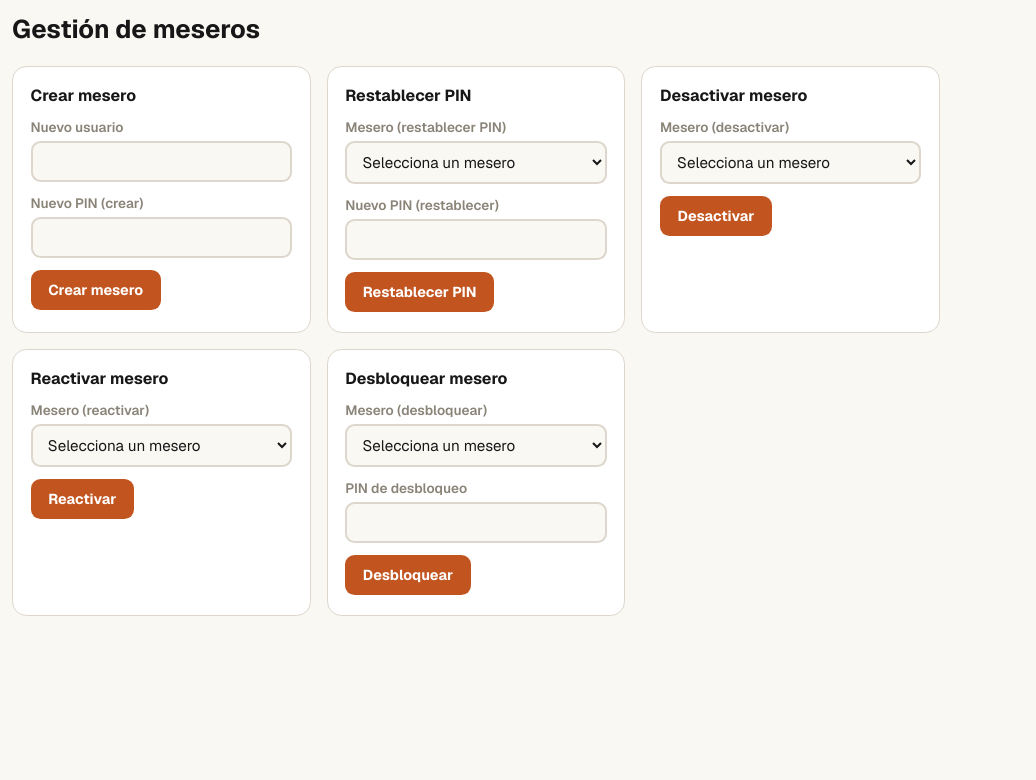
it: MeseroManagement (T53, RF-2/3/4/5/7) › creates a mesero and shows the confirmation
Step 1. Type "nuevo" into the field labelled "Nuevo usuario" → (161,162), box [31, 141, 292, 182]
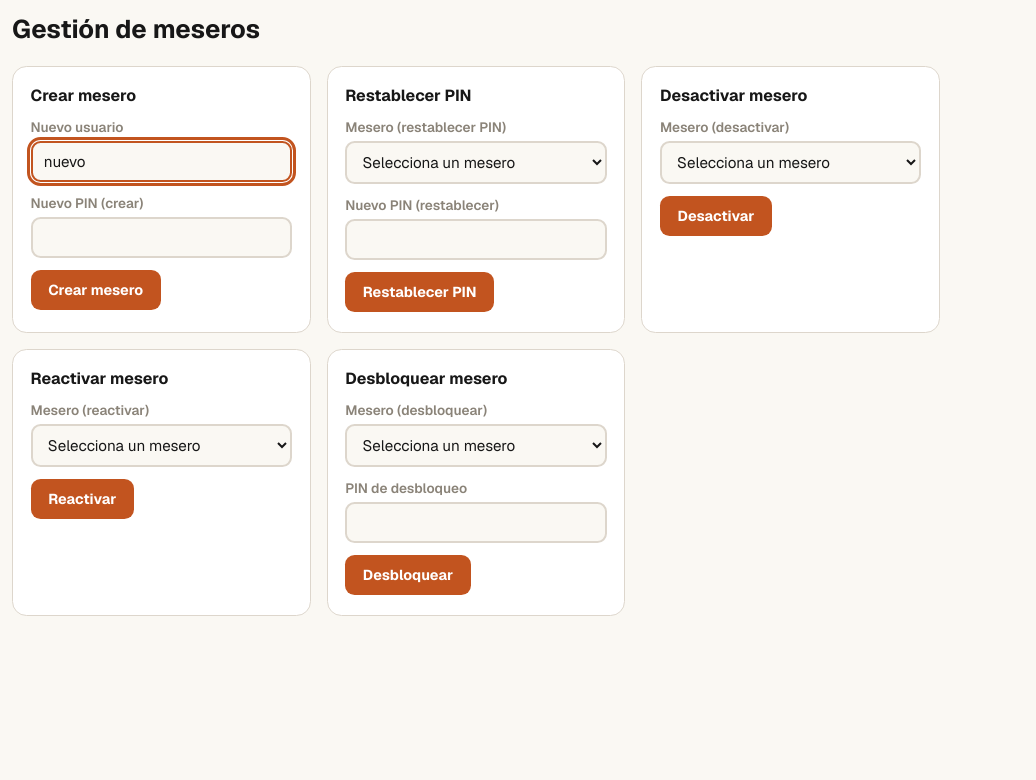
Step 2. Type "1234" into the field labelled "Nuevo PIN (crear)" → (161,238), box [31, 217, 292, 258]
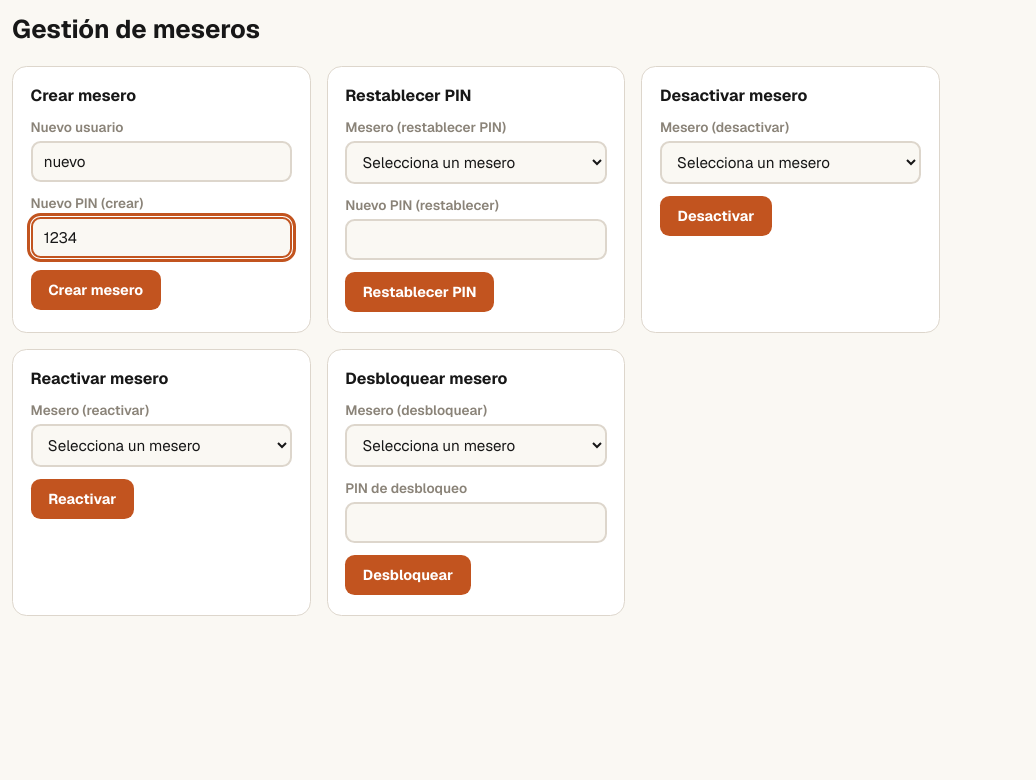
Step 3. Click the button "Crear mesero" → (96,290), box [31, 270, 161, 310]
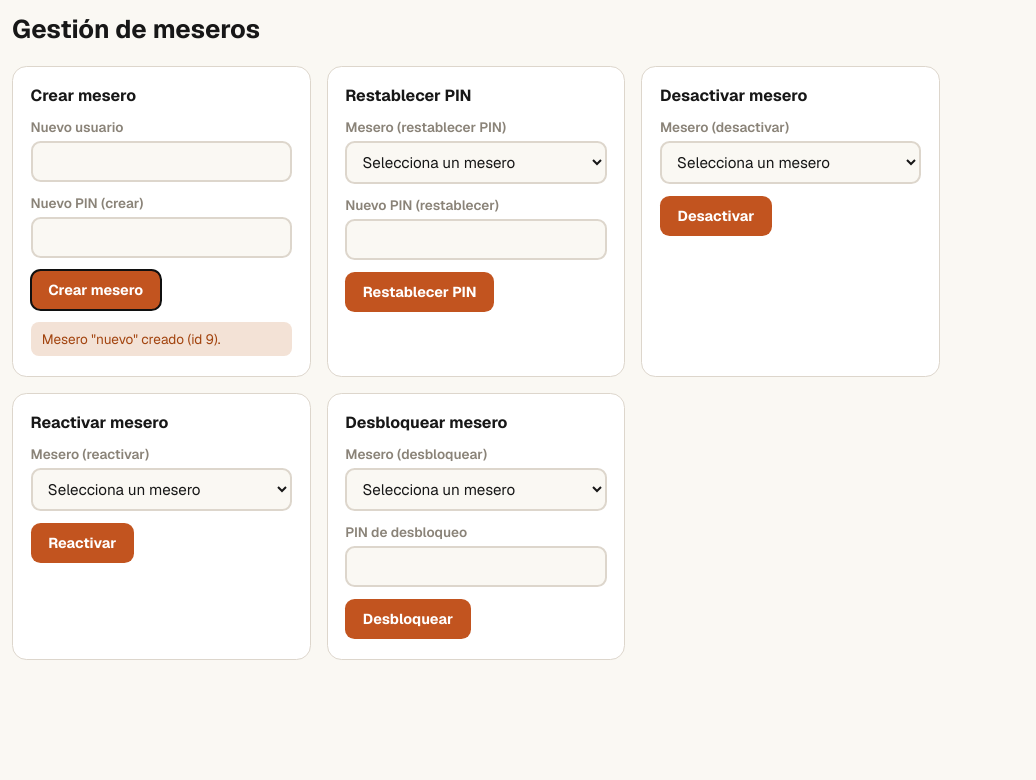
Check: the text "Mesero \"nuevo\" creado (id 9)." is shown, box [31, 322, 292, 356]
